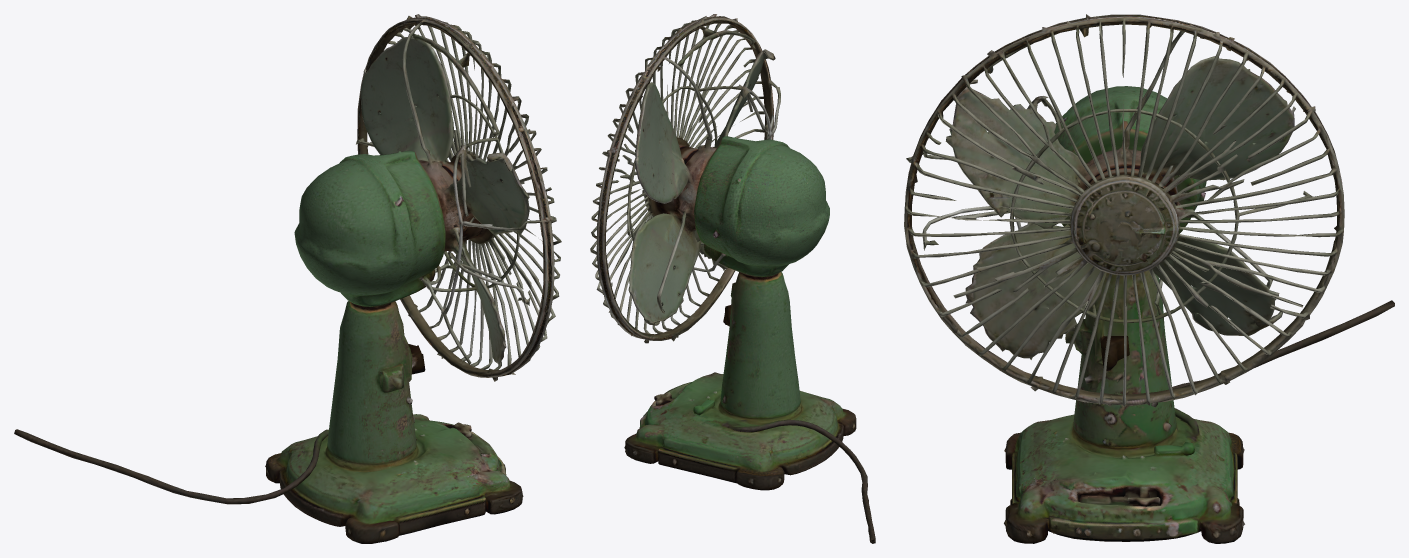
3 views of the same model, side by side, from view 1: azimuth 30°, elevation 25°; view 2: azimuth 150°, elevation 25°; view 3: azimuth 270°, elevation 25° (orthographic). The views are drawn at different scales.
Visible parts, largest first — view 1: tripo_node_e1c31df7-27ed-4e3a-9c18-feae60e5ba87; view 2: tripo_node_e1c31df7-27ed-4e3a-9c18-feae60e5ba87; view 3: tripo_node_e1c31df7-27ed-4e3a-9c18-feae60e5ba87.
Boxes of the visible parts, left/top/right/bottom form: tripo_node_e1c31df7-27ed-4e3a-9c18-feae60e5ba87: left=14, top=14, right=561, bottom=543; tripo_node_e1c31df7-27ed-4e3a-9c18-feae60e5ba87: left=590, top=14, right=875, bottom=543; tripo_node_e1c31df7-27ed-4e3a-9c18-feae60e5ba87: left=904, top=14, right=1394, bottom=543.
Size of the model in its own units: 0.8466 by 1 by 0.8586.
1 material, 1 textured.
